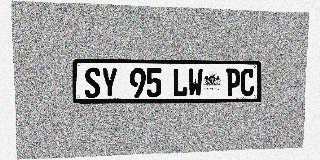5: (146, 68, 162, 97)
9: (130, 68, 146, 97)
C: (240, 69, 255, 96)
L: (173, 68, 188, 97)
P: (226, 69, 241, 96)
S: (84, 68, 101, 98)
W: (188, 68, 203, 97)
Y: (101, 68, 117, 98)
